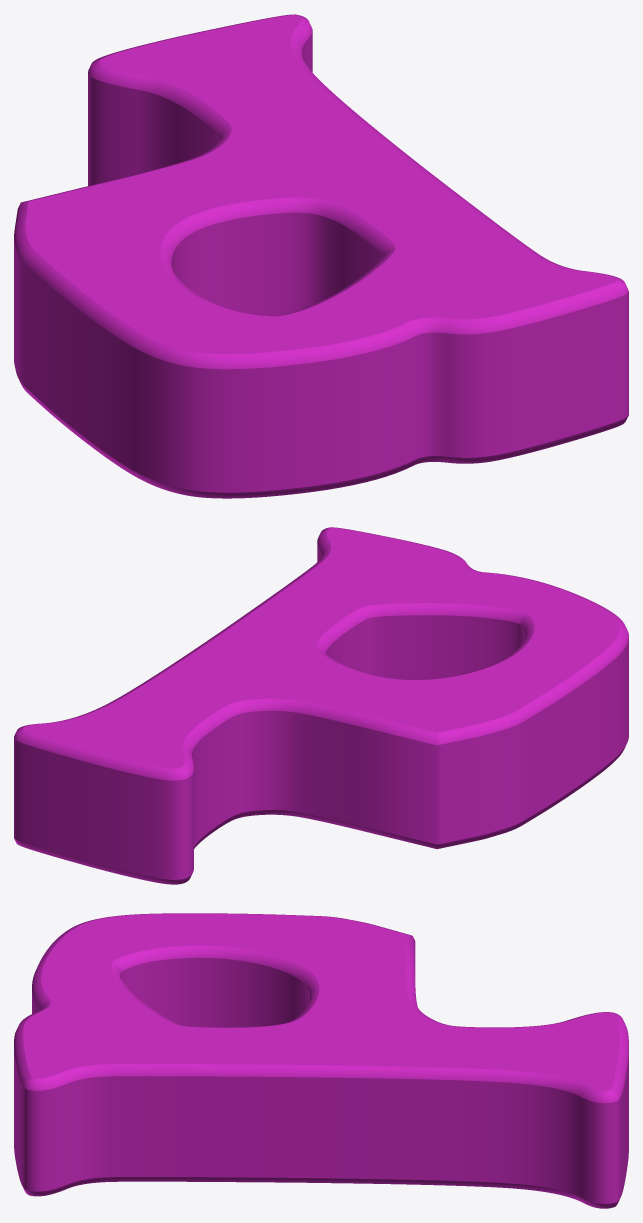
File: Bubble_LetterP.fbx
3 views of the same model, one above another, from view 1: azimuth 30°, elevation 25°; view 2: azimuth 150°, elevation 25°; view 3: azimuth 270°, elevation 25° (orthographic). The views are drawn at different scales.
Visible parts, largest first — view 1: BubbleLetter_P; view 2: BubbleLetter_P; view 3: BubbleLetter_P.
Boxes of the visible parts, x1=… form: BubbleLetter_P: x1=14, y1=14, x2=628, y2=498; BubbleLetter_P: x1=14, y1=527, x2=628, y2=884; BubbleLetter_P: x1=14, y1=913, x2=628, y2=1208.
Bounding box in the file's own units: 0.473 × 0.14 × 0.6639.
